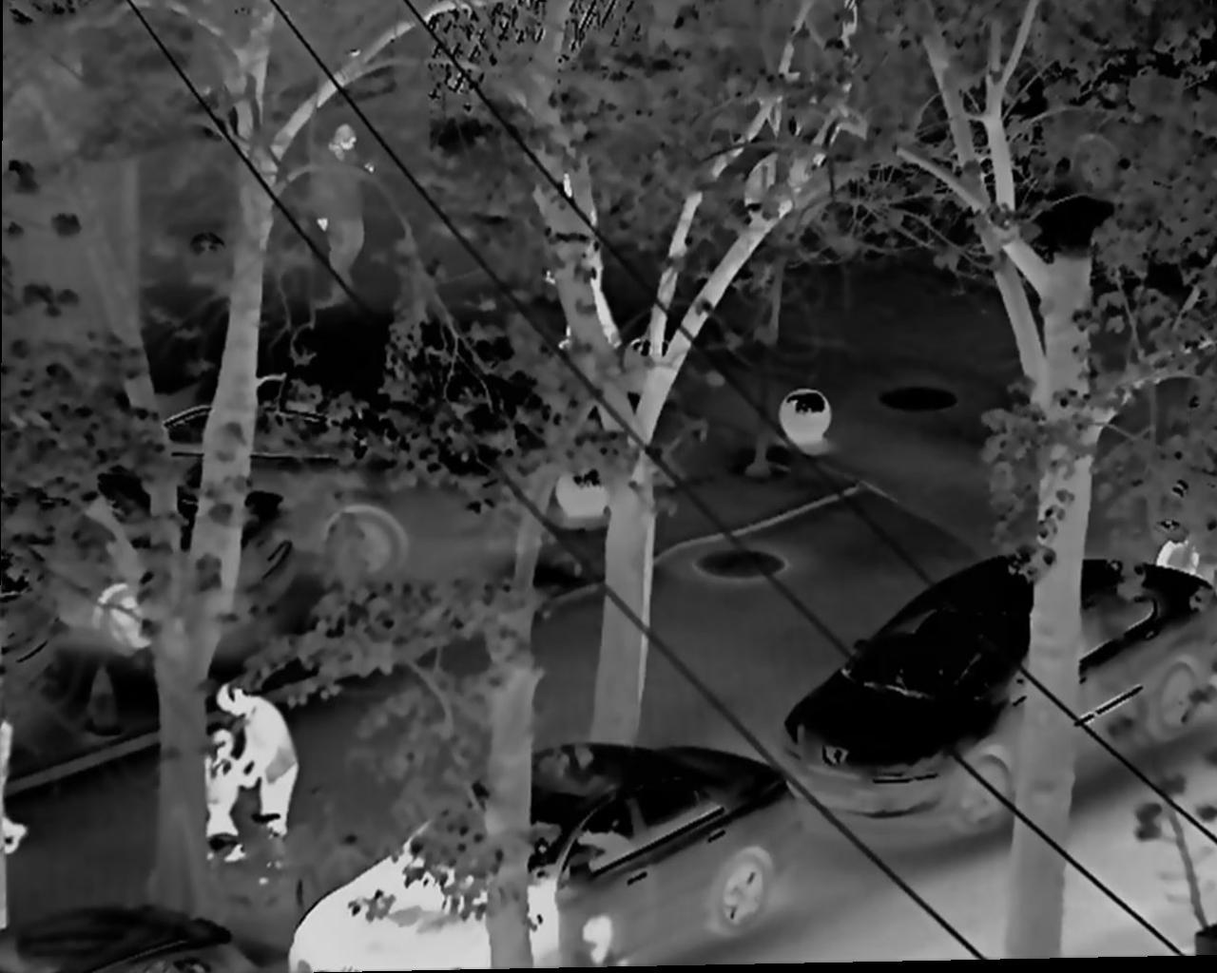person: (545, 164, 631, 370), (220, 678, 307, 854), (189, 709, 244, 864)
